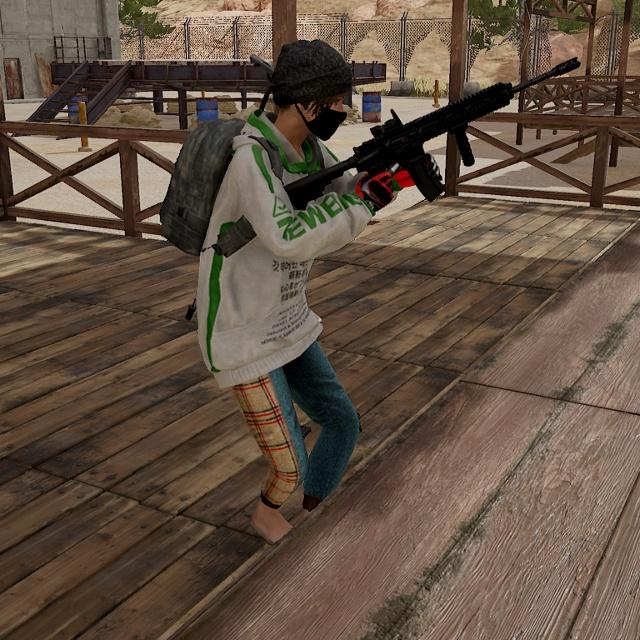head: (262, 31, 361, 144)
people: (161, 29, 388, 550)
